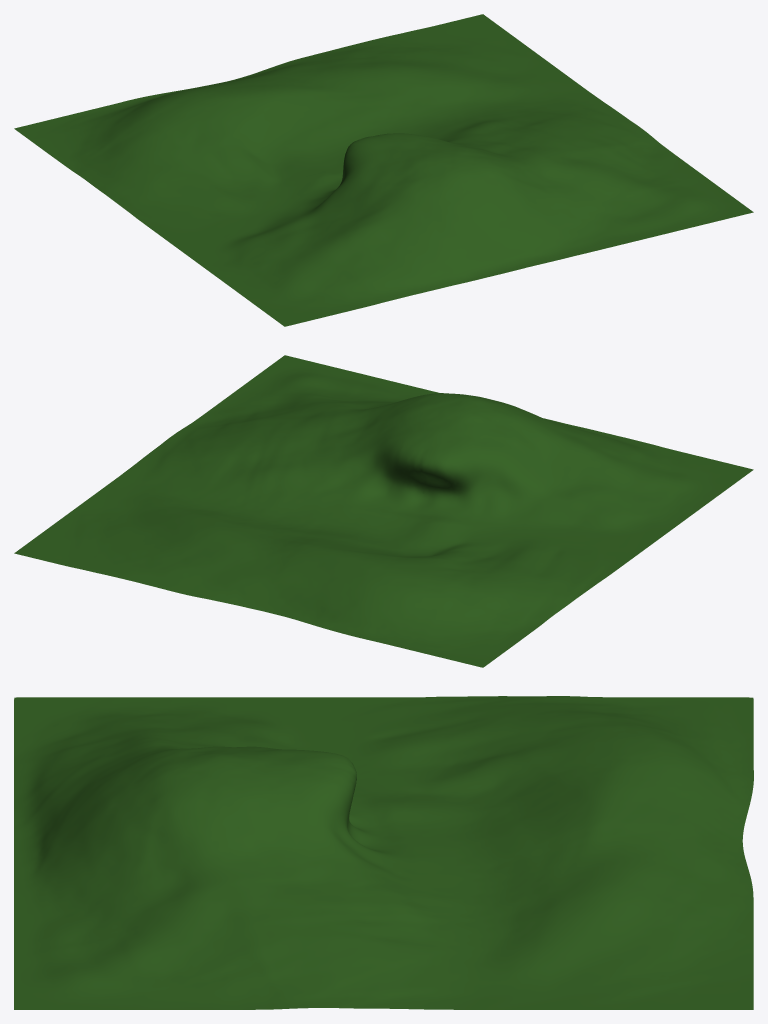
The model's file is tescik.fbx.
The picture shows the model from 3 angles, top to bottom: view 1: azimuth 30°, elevation 25°; view 2: azimuth 150°, elevation 25°; view 3: azimuth 270°, elevation 25°; orthographic projection. The views are drawn at different scales.
Parts seen in each view (by area): view 1: Plane; view 2: Plane; view 3: Plane.
Boxes of the visible parts, box(x1,y1,x2,y2) form: Plane: box(14, 14, 753, 326); Plane: box(14, 355, 753, 667); Plane: box(14, 696, 753, 1009).
Bounding box in the file's own units: 6005 × 750 × 6005.
